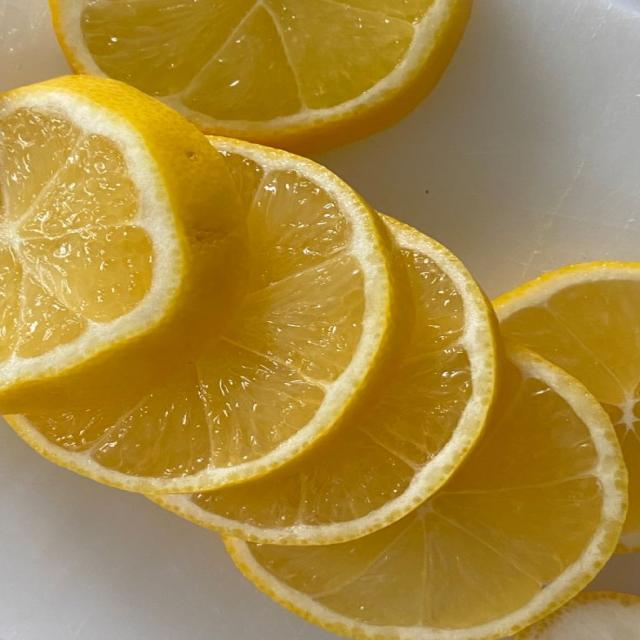lemon: (10, 139, 394, 493), (227, 348, 626, 639), (158, 218, 496, 544), (0, 77, 243, 412), (51, 0, 471, 153), (495, 263, 639, 551), (514, 592, 639, 639)
